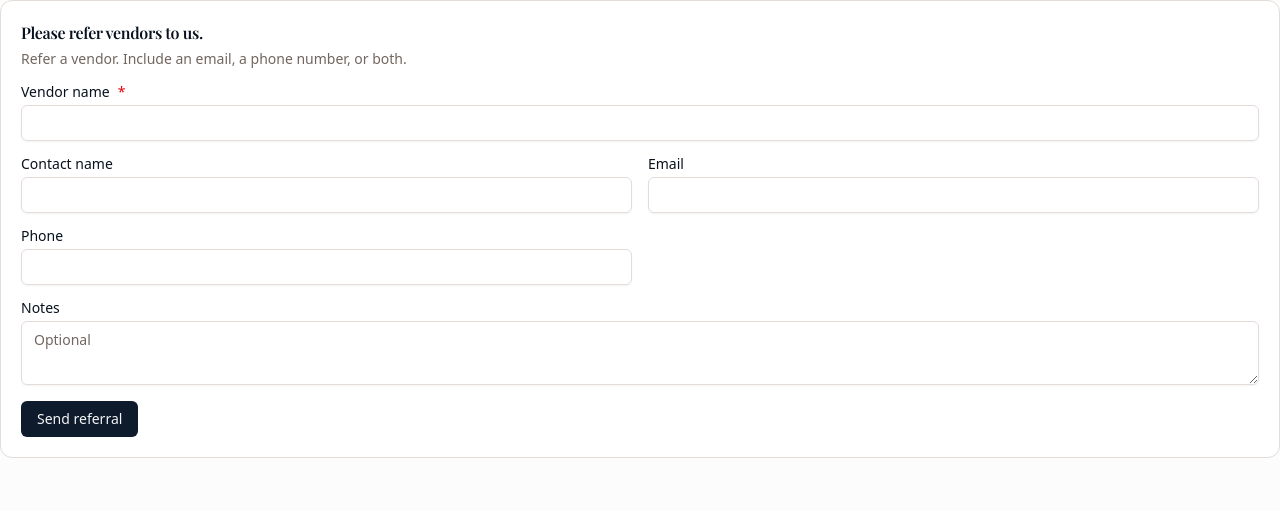
Test case: ReferVendorForm › requires a vendor name and an email or phone before submitting
The image size is (1280, 511).
Expected: the heading "Please refer vendors to us." is shown, [21,22,203,43]
Click the button "Send referral": (80, 419) [21,401,138,437]
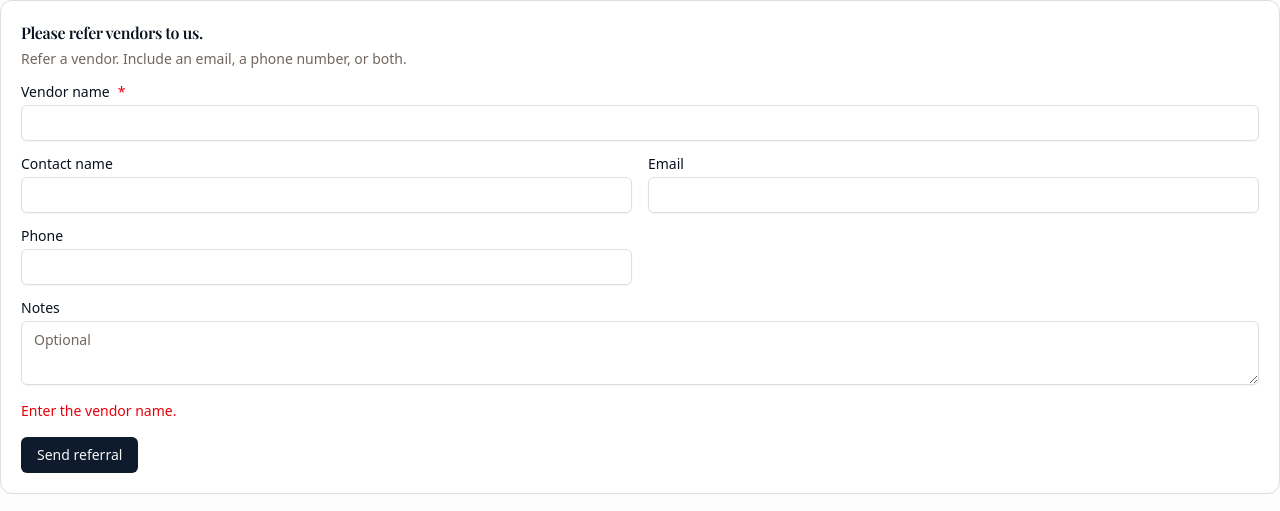
Result: the message reads "Enter the vendor name." at [21,401,176,420]
In the field labelled "Vendor name *": (640, 123) [21,105,1259,141], type "Northwind Cabinets"
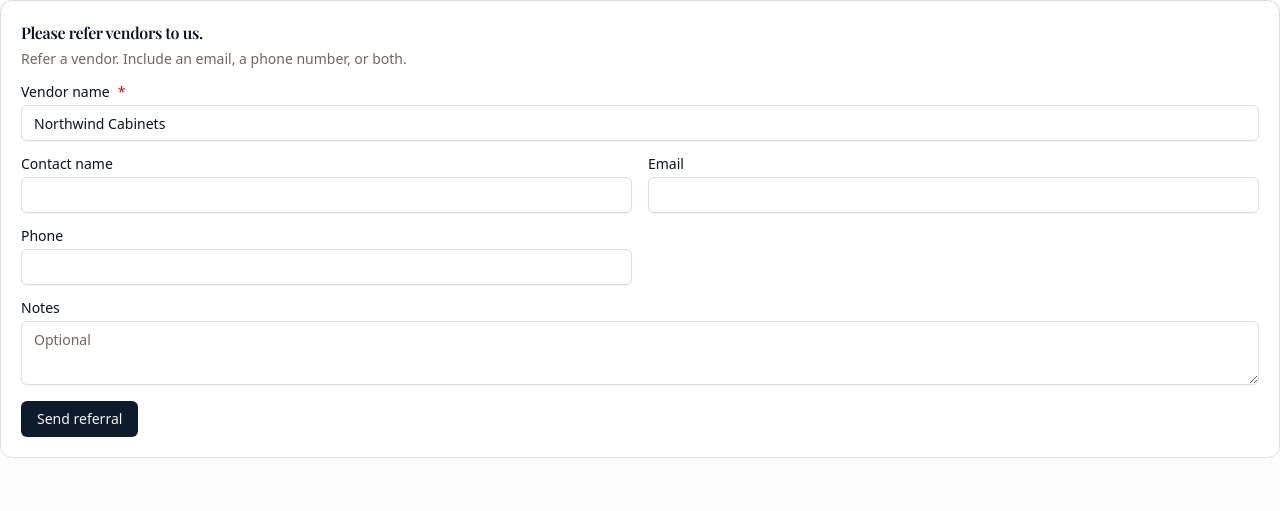
Click the button "Send referral": (80, 419) [21,401,138,437]
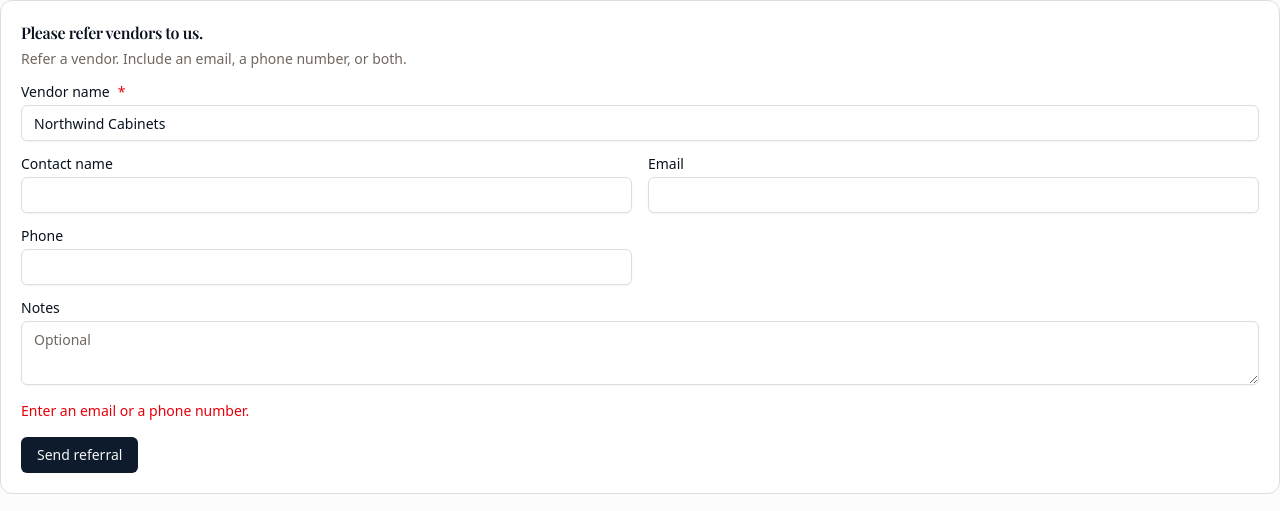
Result: the message reads "Enter an email or a phone number." at [21,401,249,420]
In the field labelled "Email": (954, 195) [648,177,1259,213], type "not-an-email"
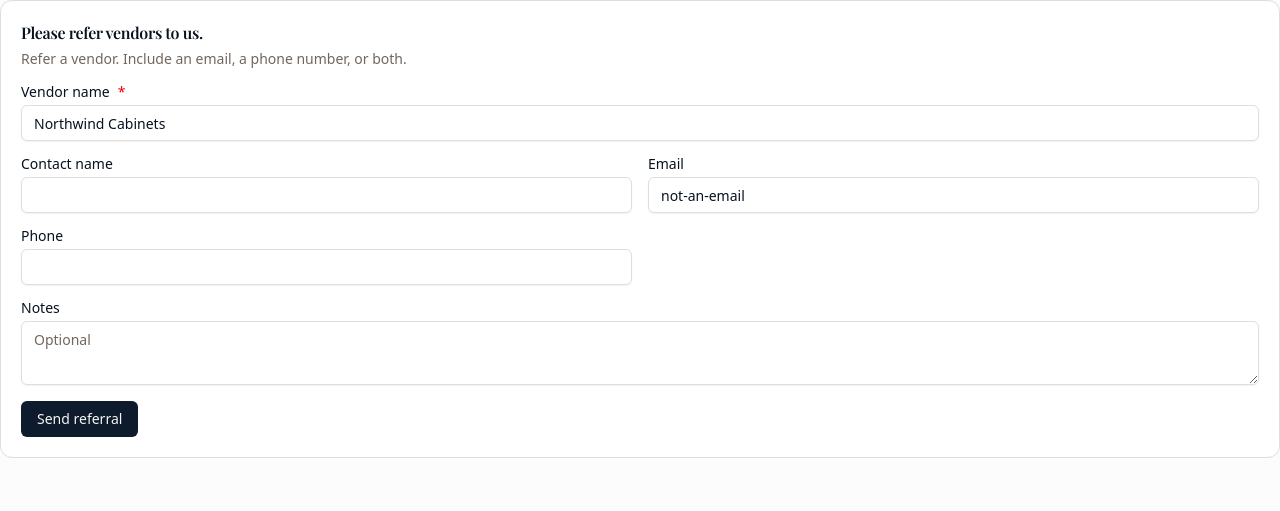
Click the button "Send referral": (80, 419) [21,401,138,437]
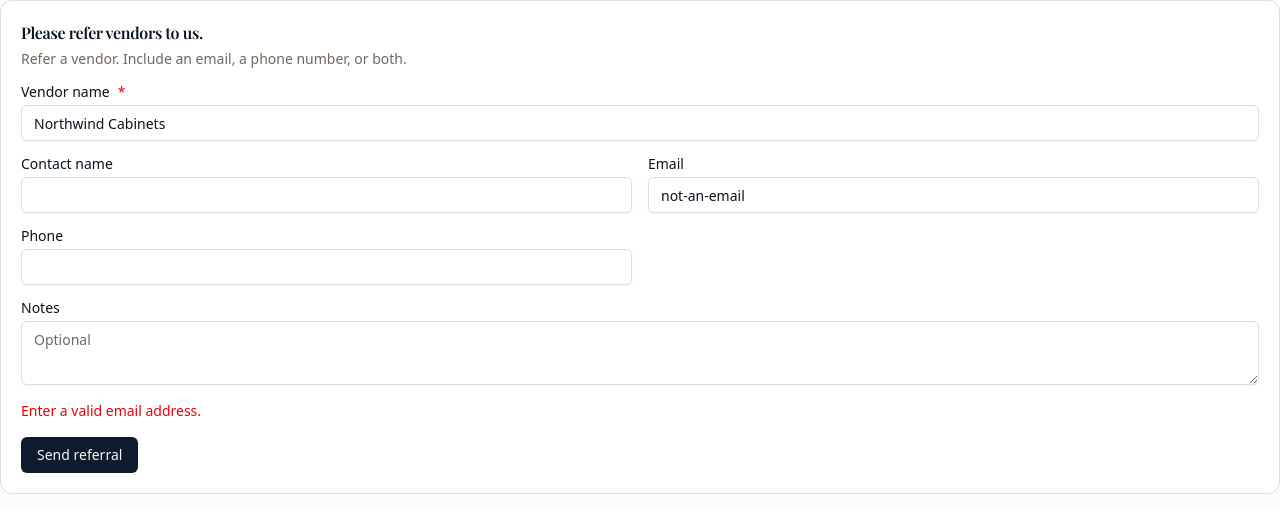
Result: the message reads "Enter a valid email address." at [21,401,201,420]
